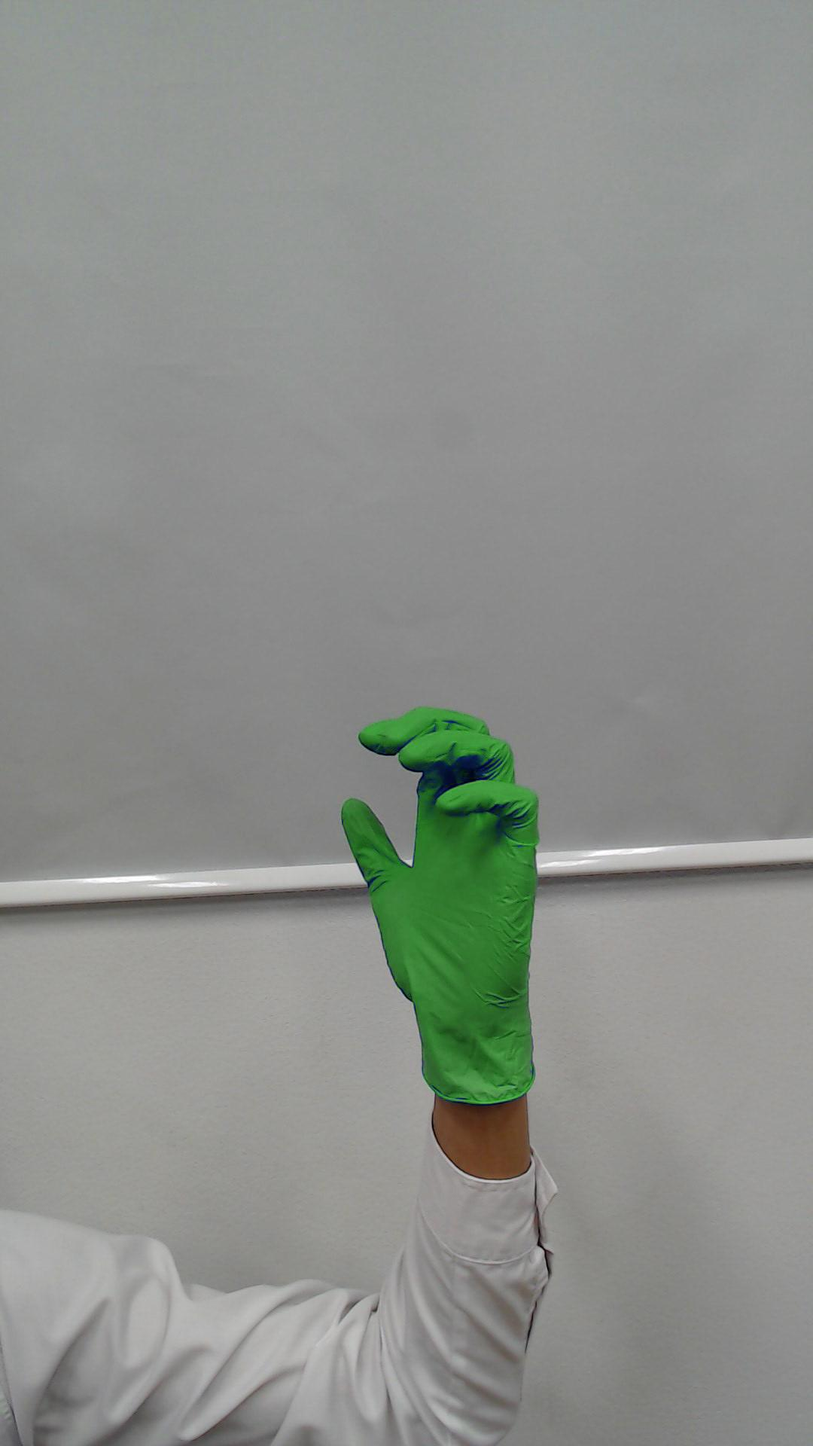gloves: (329, 697, 546, 1002)
